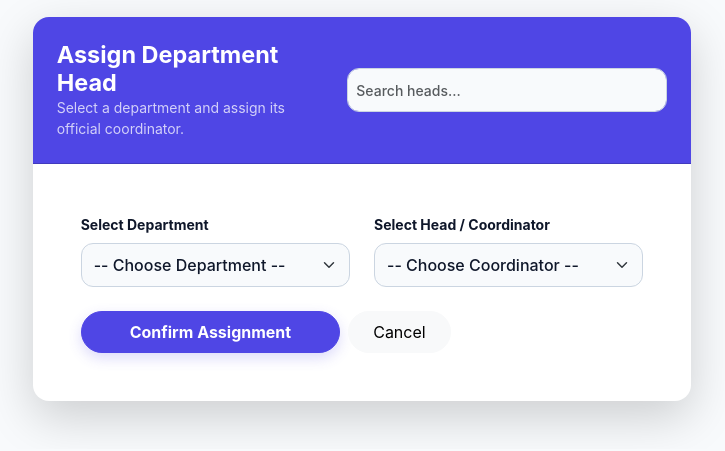
ManageDepartments › keeps matching heads unavailable when assigned to a different department
The image size is (725, 451).
Select "Electrical Engineering" in the dropdown below "Select Department" at (215, 265), box [81,243,350,287]
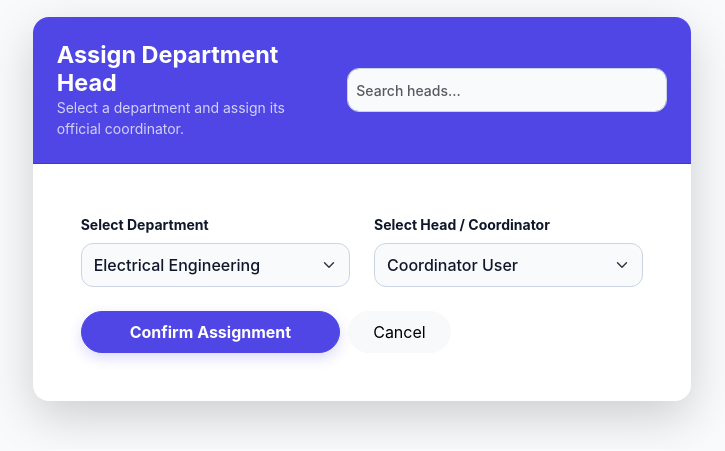
Type "head user" into the search field named "Search available heads".
click(507, 90); type("head user")  # box [347,68,667,112]
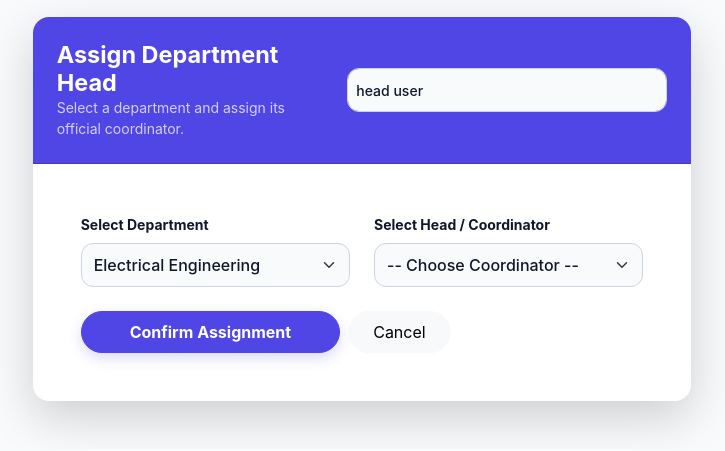
Expected: the dropdown below "Select Head / Coordinator" shows "-- Choose Coordinator --", [374,243,643,287]
